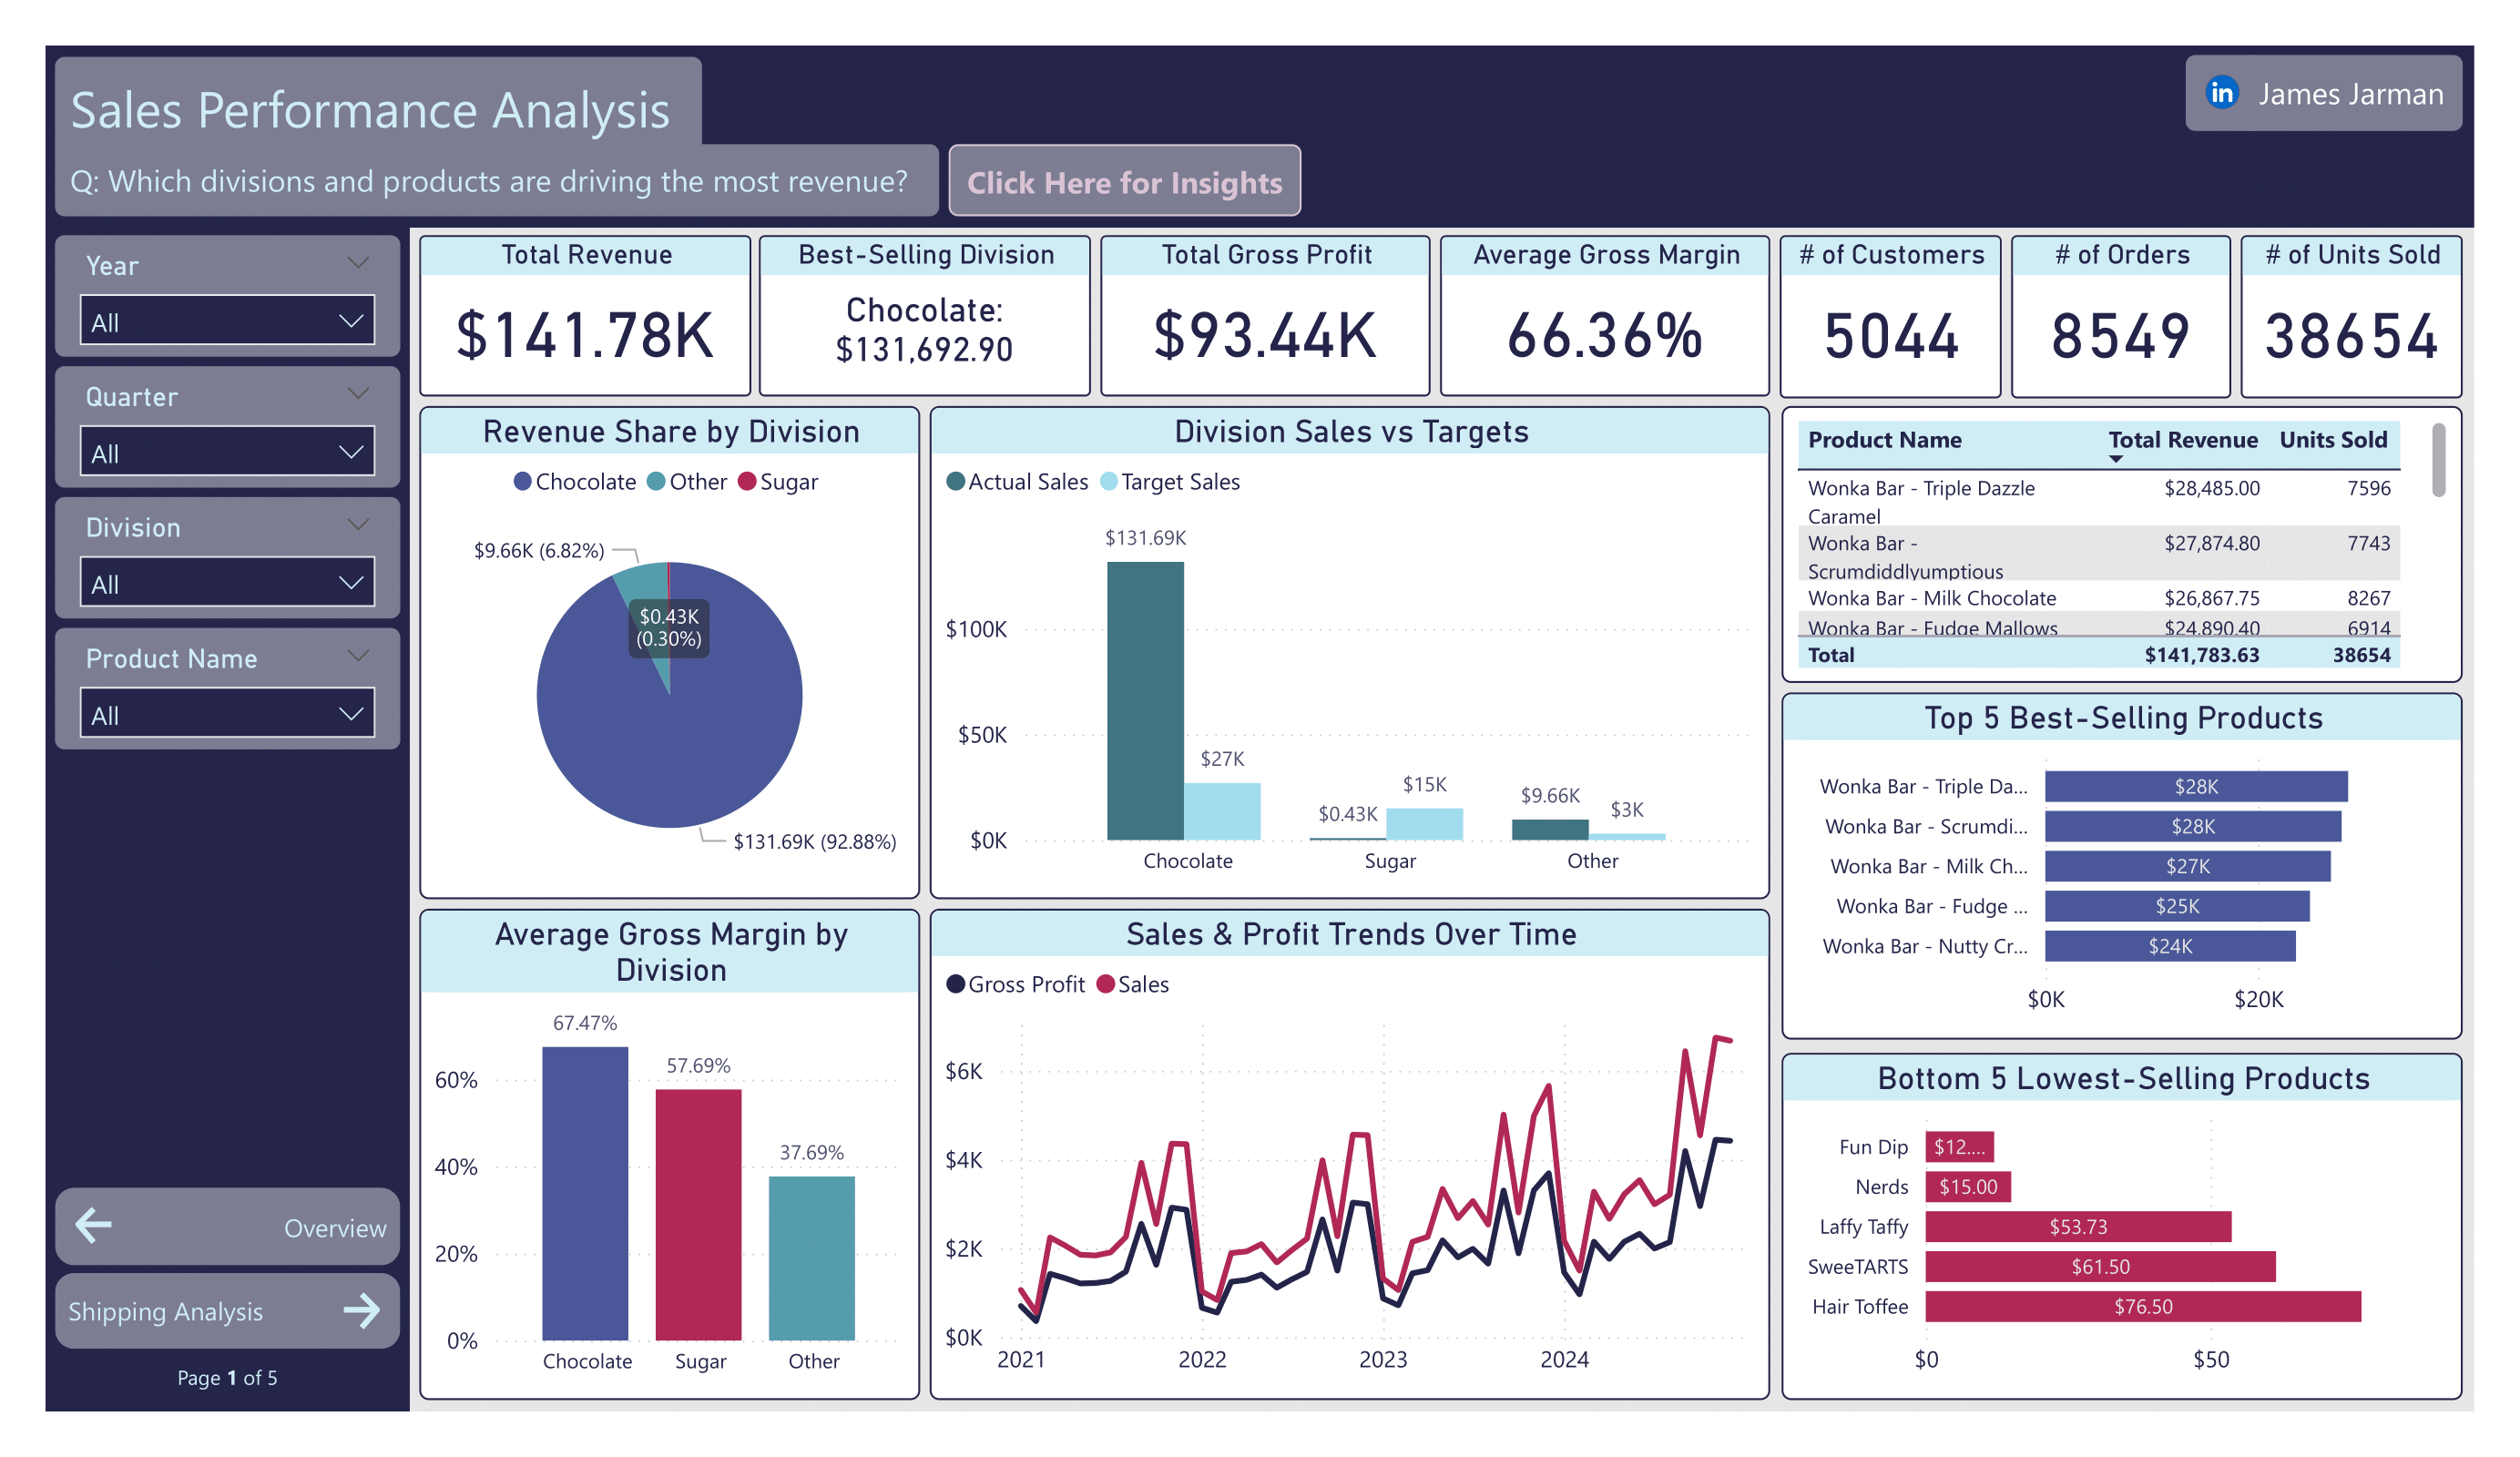

The dashboard page shown, as its layout file describes it:
{"tool":"powerbi","page":{"name":"1. Sales Performance Analysis","canvas":[1280,720],"ordinal":1},"visuals":[{"type":"clusteredBarChart","title":"Bottom 5 Products by Revenue","fields":{"Category":["candy_products.Product_Name"],"Y":["Sum(sales.Sales)"]},"box":[918.5,531.1,355.5,184],"z":0},{"type":"clusteredBarChart","title":"Top 5 Products by Revenue","fields":{"Category":["candy_products.Product_Name"],"Y":["Sum(sales.Sales)"]},"box":[918.5,341.2,355.5,184],"z":1000},{"type":"tableEx","title":"Product Table","fields":{"Values":["sales.Product_Name","Sum(sales.Sales)","Sum(sales_analysis.Units Sold)"]},"box":[918.5,189.9,356.3,145.8],"z":2000},{"type":"lineChart","title":"Revenue & Gross Profit Over Time","fields":{"Y":["Sum(sales.Gross_Profit)","Sum(sales.Sales)"],"Category":["sales.Order_Date.Variation.Date Hierarchy.Year","sales.Order_Date.Variation.Date Hierarchy.Quarter","sales.Order_Date.Variation.Date Hierarchy.Month"]},"box":[470.2,464.9,442.6,250],"z":3000},{"type":"clusteredColumnChart","fields":{"Y":["sales.Average Gross Margin"],"Category":["sales.Division"]},"box":[196.8,464.9,269.1,250],"z":4000},{"type":"clusteredColumnChart","title":"Actual vs Target Revenue by Division","fields":{"Category":["sales.Division"],"Y":["Sum(sales.Sales)","Sum(candy_targets.Target)"]},"box":[470.2,189.9,442.6,269.7],"z":5000},{"type":"pieChart","title":"Revenue by Division","fields":{"Category":["sales.Division"],"Y":["Sum(sales.Sales)"]},"box":[196.3,189.4,269.7,270.2],"z":6000},{"type":"card","title":"# of Orders","fields":{"Values":["CountNonNull(sales_analysis.Order ID)"]},"box":[1038,100,115.1,85.9],"z":7000},{"type":"card","title":"# of Customers","fields":{"Values":["Count(sales_analysis.Customer ID)"]},"box":[918.1,100.1,115,85.7],"z":8000},{"type":"card","title":"Average Gross Margin","fields":{"Values":["sales.Average Gross Margin1"]},"box":[737.2,100.2,175.6,85.1],"z":9000},{"type":"card","title":"Total Gross Profit","fields":{"Values":["Sum(sales.Gross_Profit)"]},"box":[558.3,100.2,175.6,85.1],"z":10000},{"type":"card","title":"Best-Selling Division","fields":{"Values":["sales.Best-Selling Division & Sales1"]},"box":[378.2,100.2,175.2,85.1],"z":11000},{"type":"card","title":"Total Revenue","fields":{"Values":["Sum(sales_analysis.Total Sales)"]},"box":[197,100,175.5,84.9],"z":12000},{"type":"shape","title":"Left-side Shape","box":[0,95.6,192,624.4],"z":13000},{"type":"actionButton","title":"Next Page Button","box":[5,675,181.9,40],"z":14000},{"type":"actionButton","title":"Previous Page Button","box":[5,630,181.9,40],"z":15000},{"type":"slicer","title":"Quarter Slicer","fields":{"Values":["sales_analysis.Division"]},"box":[5.2,238,182,63.6],"z":16000},{"type":"slicer","title":"Year Slicer","fields":{"Values":["sales_analysis.Order Date.Variation.Date Hierarchy.Quarter"]},"box":[5.2,169,182,64],"z":17000},{"type":"slicer","title":"Division Slicer","fields":{"Values":["sales_analysis.Order Date.Variation.Date Hierarchy.Year"]},"box":[5,100,182,64],"z":18000},{"type":"shape","title":"Header Shape","box":[0,0,1280,95.6],"z":19000},{"type":"actionButton","title":"LinkedIn Button","box":[1127.6,5,40,40],"z":20000},{"type":"textbox","title":"Question","box":[5,47.9,540,41.3],"z":21000},{"type":"textbox","title":"Page Title","box":[5,5.6,340.9,52.1],"z":22000},{"type":"actionButton","title":"JJ Button","box":[1157.9,5,116.9,40],"z":23000},{"type":"card","title":"# of Units Sold","fields":{"Values":["Sum(sales_analysis.Units Sold)"]},"box":[1158.1,100,116.8,85.9],"z":24000}]}

Visuals, with their boxes on the page's 1280x720 design canvas (x1, y1, x2, y2). These are canvas units, not pixel positions in the 2520x1457 screenshot, which may show the page scaled, cropped or inside an application window:
"Bottom 5 Products by Revenue" clusteredBarChart: pyautogui.locateOnScreen(918, 531, 1274, 715)
"Top 5 Products by Revenue" clusteredBarChart: pyautogui.locateOnScreen(918, 341, 1274, 525)
"Product Table" tableEx: pyautogui.locateOnScreen(918, 190, 1275, 336)
"Revenue & Gross Profit Over Time" lineChart: pyautogui.locateOnScreen(470, 465, 913, 715)
clusteredColumnChart - sales.Average Gross Margin x sales.Division: pyautogui.locateOnScreen(197, 465, 466, 715)
"Actual vs Target Revenue by Division" clusteredColumnChart: pyautogui.locateOnScreen(470, 190, 913, 460)
"Revenue by Division" pieChart: pyautogui.locateOnScreen(196, 189, 466, 460)
"# of Orders" card: pyautogui.locateOnScreen(1038, 100, 1153, 186)
"# of Customers" card: pyautogui.locateOnScreen(918, 100, 1033, 186)
"Average Gross Margin" card: pyautogui.locateOnScreen(737, 100, 913, 185)
"Total Gross Profit" card: pyautogui.locateOnScreen(558, 100, 734, 185)
"Best-Selling Division" card: pyautogui.locateOnScreen(378, 100, 553, 185)
"Total Revenue" card: pyautogui.locateOnScreen(197, 100, 372, 185)
"Left-side Shape" shape: pyautogui.locateOnScreen(0, 96, 192, 720)
"Next Page Button" actionButton: pyautogui.locateOnScreen(5, 675, 187, 715)
"Previous Page Button" actionButton: pyautogui.locateOnScreen(5, 630, 187, 670)
"Quarter Slicer" slicer: pyautogui.locateOnScreen(5, 238, 187, 302)
"Year Slicer" slicer: pyautogui.locateOnScreen(5, 169, 187, 233)
"Division Slicer" slicer: pyautogui.locateOnScreen(5, 100, 187, 164)
"Header Shape" shape: pyautogui.locateOnScreen(0, 0, 1280, 96)
"LinkedIn Button" actionButton: pyautogui.locateOnScreen(1128, 5, 1168, 45)
"Question" textbox: pyautogui.locateOnScreen(5, 48, 545, 89)
"Page Title" textbox: pyautogui.locateOnScreen(5, 6, 346, 58)
"JJ Button" actionButton: pyautogui.locateOnScreen(1158, 5, 1275, 45)
"# of Units Sold" card: pyautogui.locateOnScreen(1158, 100, 1275, 186)
